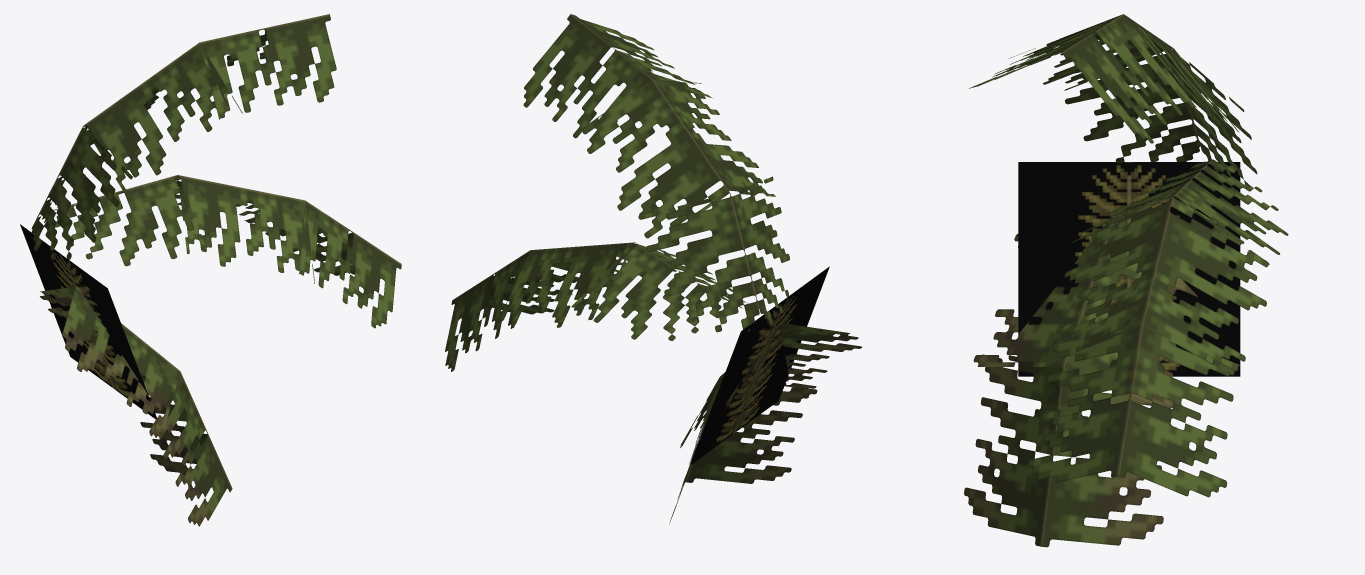
Rendered from date_palm_straight_2.obj.
The picture shows the model from 3 angles, left to right: view 1: azimuth 30°, elevation 25°; view 2: azimuth 150°, elevation 25°; view 3: azimuth 270°, elevation 25°; orthographic projection. The views are drawn at different scales.
Visible parts, largest first — view 1: cube.231; view 2: cube.231; view 3: cube.231.
Boxes of the visible parts, x1,y1,x2,y2 form: cube.231: (20,14,401,526); cube.231: (445,14,861,523); cube.231: (964,14,1288,547).
Bounding box in the file's own units: 3.81 × 4.33 × 2.8.
